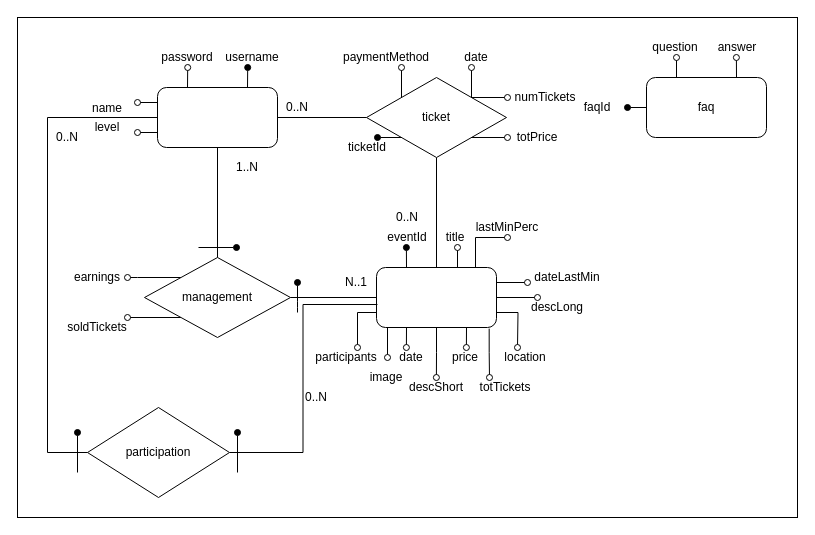
Image size: 815x535. Some labels were removed from this diagram. Each missing label, with the box of its shape:
event: (376, 266, 496, 328)
user: (156, 86, 278, 148)
